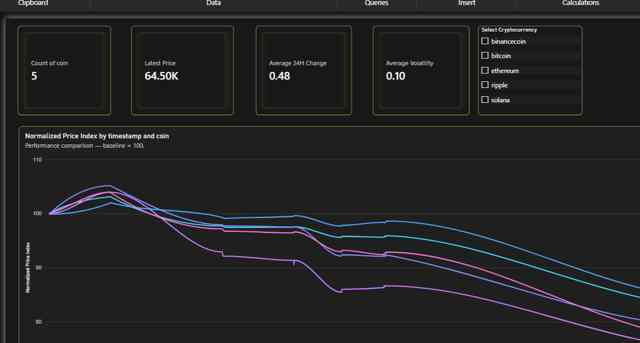

Layout of this report page (visuals, bound fields, positions):
{"tool":"powerbi","page":{"name":"Market Overview","canvas":[1920,1080],"ordinal":0},"visuals":[{"type":"cardVisual","fields":{"Data":["Count(vw_CryptoAnalytics.coin)"]},"box":[32.9,20,240,230],"z":0},{"type":"cardVisual","fields":{"Data":["vw_CryptoAnalytics.Latest Price"]},"box":[325.7,20,264.3,230],"z":1000},{"type":"cardVisual","fields":{"Data":["vw_CryptoAnalytics.Average Volatility"]},"box":[948.6,20,248.6,230],"z":2000},{"type":"cardVisual","fields":{"Data":["vw_CryptoAnalytics.Average 24H Change"]},"box":[647.1,20,247.1,230],"z":3000},{"type":"slicer","fields":{"Values":["vw_CryptoAnalytics.coin"]},"box":[1221.4,20,268.6,230],"z":4000},{"type":"lineChart","fields":{"Category":["vw_CryptoAnalytics.timestamp"],"Series":["vw_CryptoAnalytics.coin"],"Y":["vw_CryptoAnalytics.Normalized Price Index"]},"box":[34,278.9,1850.6,720.6],"z":5000}]}

Visuals, with their boxes on the page's 1920x1080 design canvas (x1, y1, x2, y2). These are canvas units, not pixel positions in the 640x343 screenshot, which may show the page scaled, cropped or inside an application window:
cardVisual - Count(vw_CryptoAnalytics.coin): <region>33, 20, 273, 250</region>
cardVisual - vw_CryptoAnalytics.Latest Price: <region>326, 20, 590, 250</region>
cardVisual - vw_CryptoAnalytics.Average Volatility: <region>949, 20, 1197, 250</region>
cardVisual - vw_CryptoAnalytics.Average 24H Change: <region>647, 20, 894, 250</region>
slicer - vw_CryptoAnalytics.coin: <region>1221, 20, 1490, 250</region>
lineChart - vw_CryptoAnalytics.timestamp x vw_CryptoAnalytics.coin: <region>34, 279, 1885, 1000</region>
